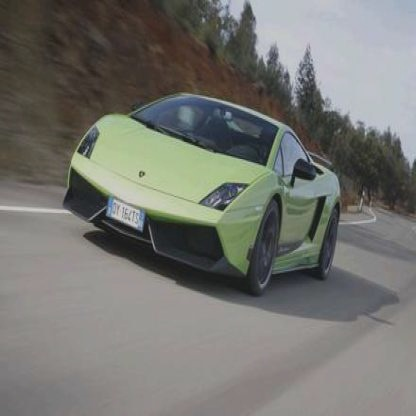Vehicle: (60, 90, 346, 302)
